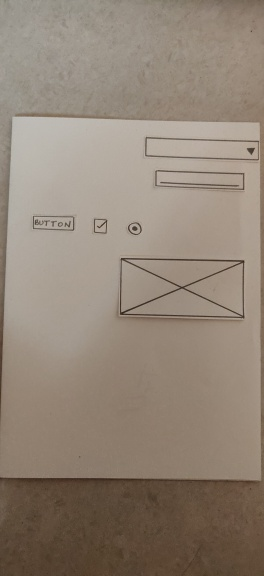button: (27, 211, 78, 234)
checkbox: (89, 215, 111, 237)
dropdown: (140, 132, 262, 164)
img: (115, 254, 248, 326)
radio: (124, 219, 146, 239)
text: (150, 166, 248, 197)
